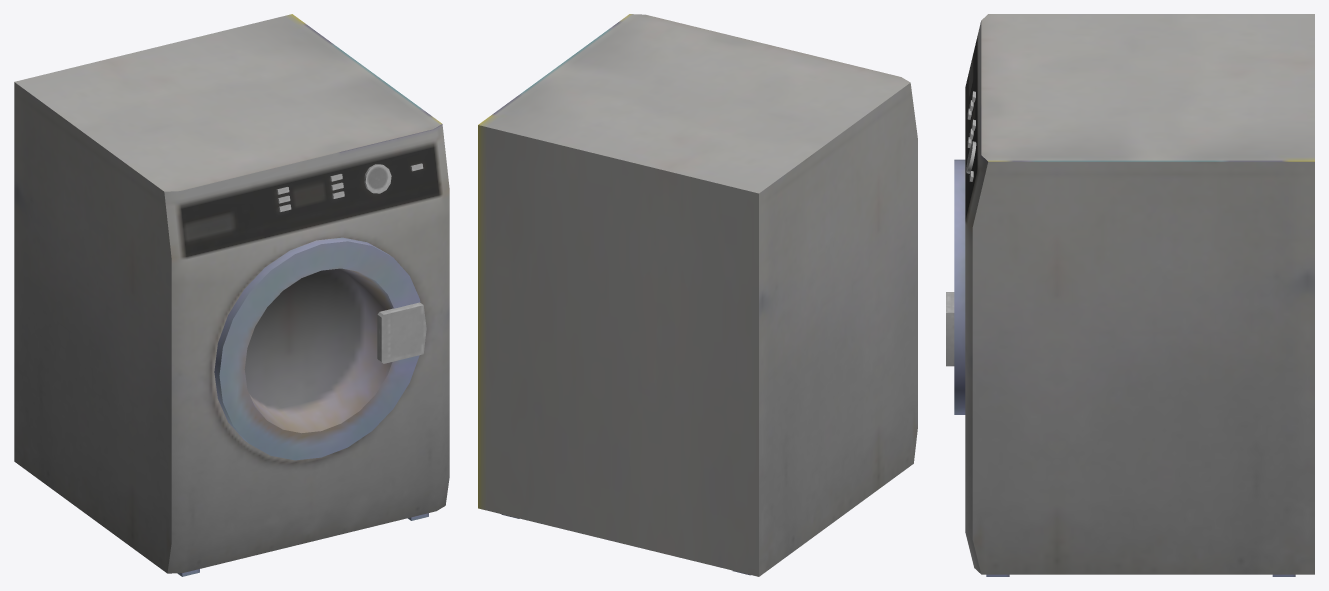
The model's file is WashingMachine.FBX.
The picture shows the model from 3 angles, left to right: view 1: azimuth 30°, elevation 25°; view 2: azimuth 150°, elevation 25°; view 3: azimuth 270°, elevation 25°; orthographic projection. The views are drawn at different scales.
Parts seen in each view (by area): view 1: WashingMachine; view 2: WashingMachine; view 3: WashingMachine.
Boxes of the visible parts, left/top/right/bottom form: WashingMachine: left=14, top=14, right=449, bottom=576; WashingMachine: left=478, top=14, right=917, bottom=576; WashingMachine: left=946, top=14, right=1314, bottom=576.
Bounding box in the file's own units: 66.17 × 88.36 × 69.83.
